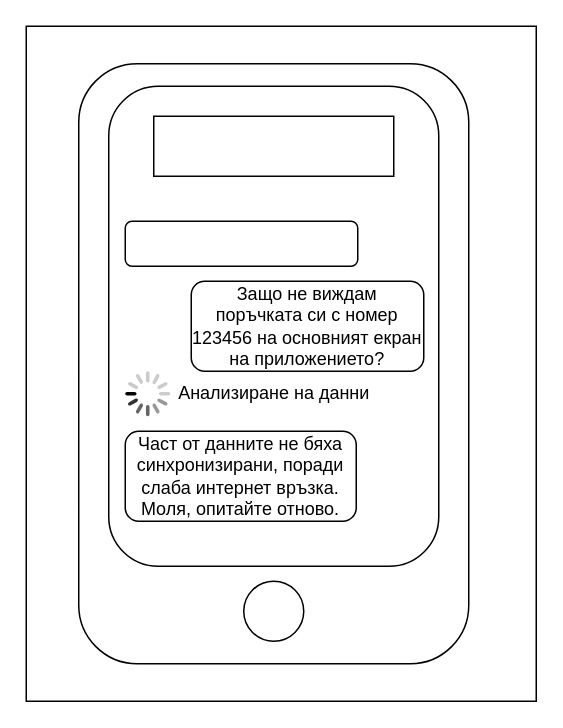
Some shapes in this 563 by 728 pixel diagram are drawn without their labels. The shapes that lost their labels are listed below. From the top down, each one's box as (x1, y1, x2, y2) in pixels, then its label:
(152, 115, 394, 176): Чатбот за обслужване на клиенти
(124, 220, 358, 266): Здравейте как мога да Ви помогна?
